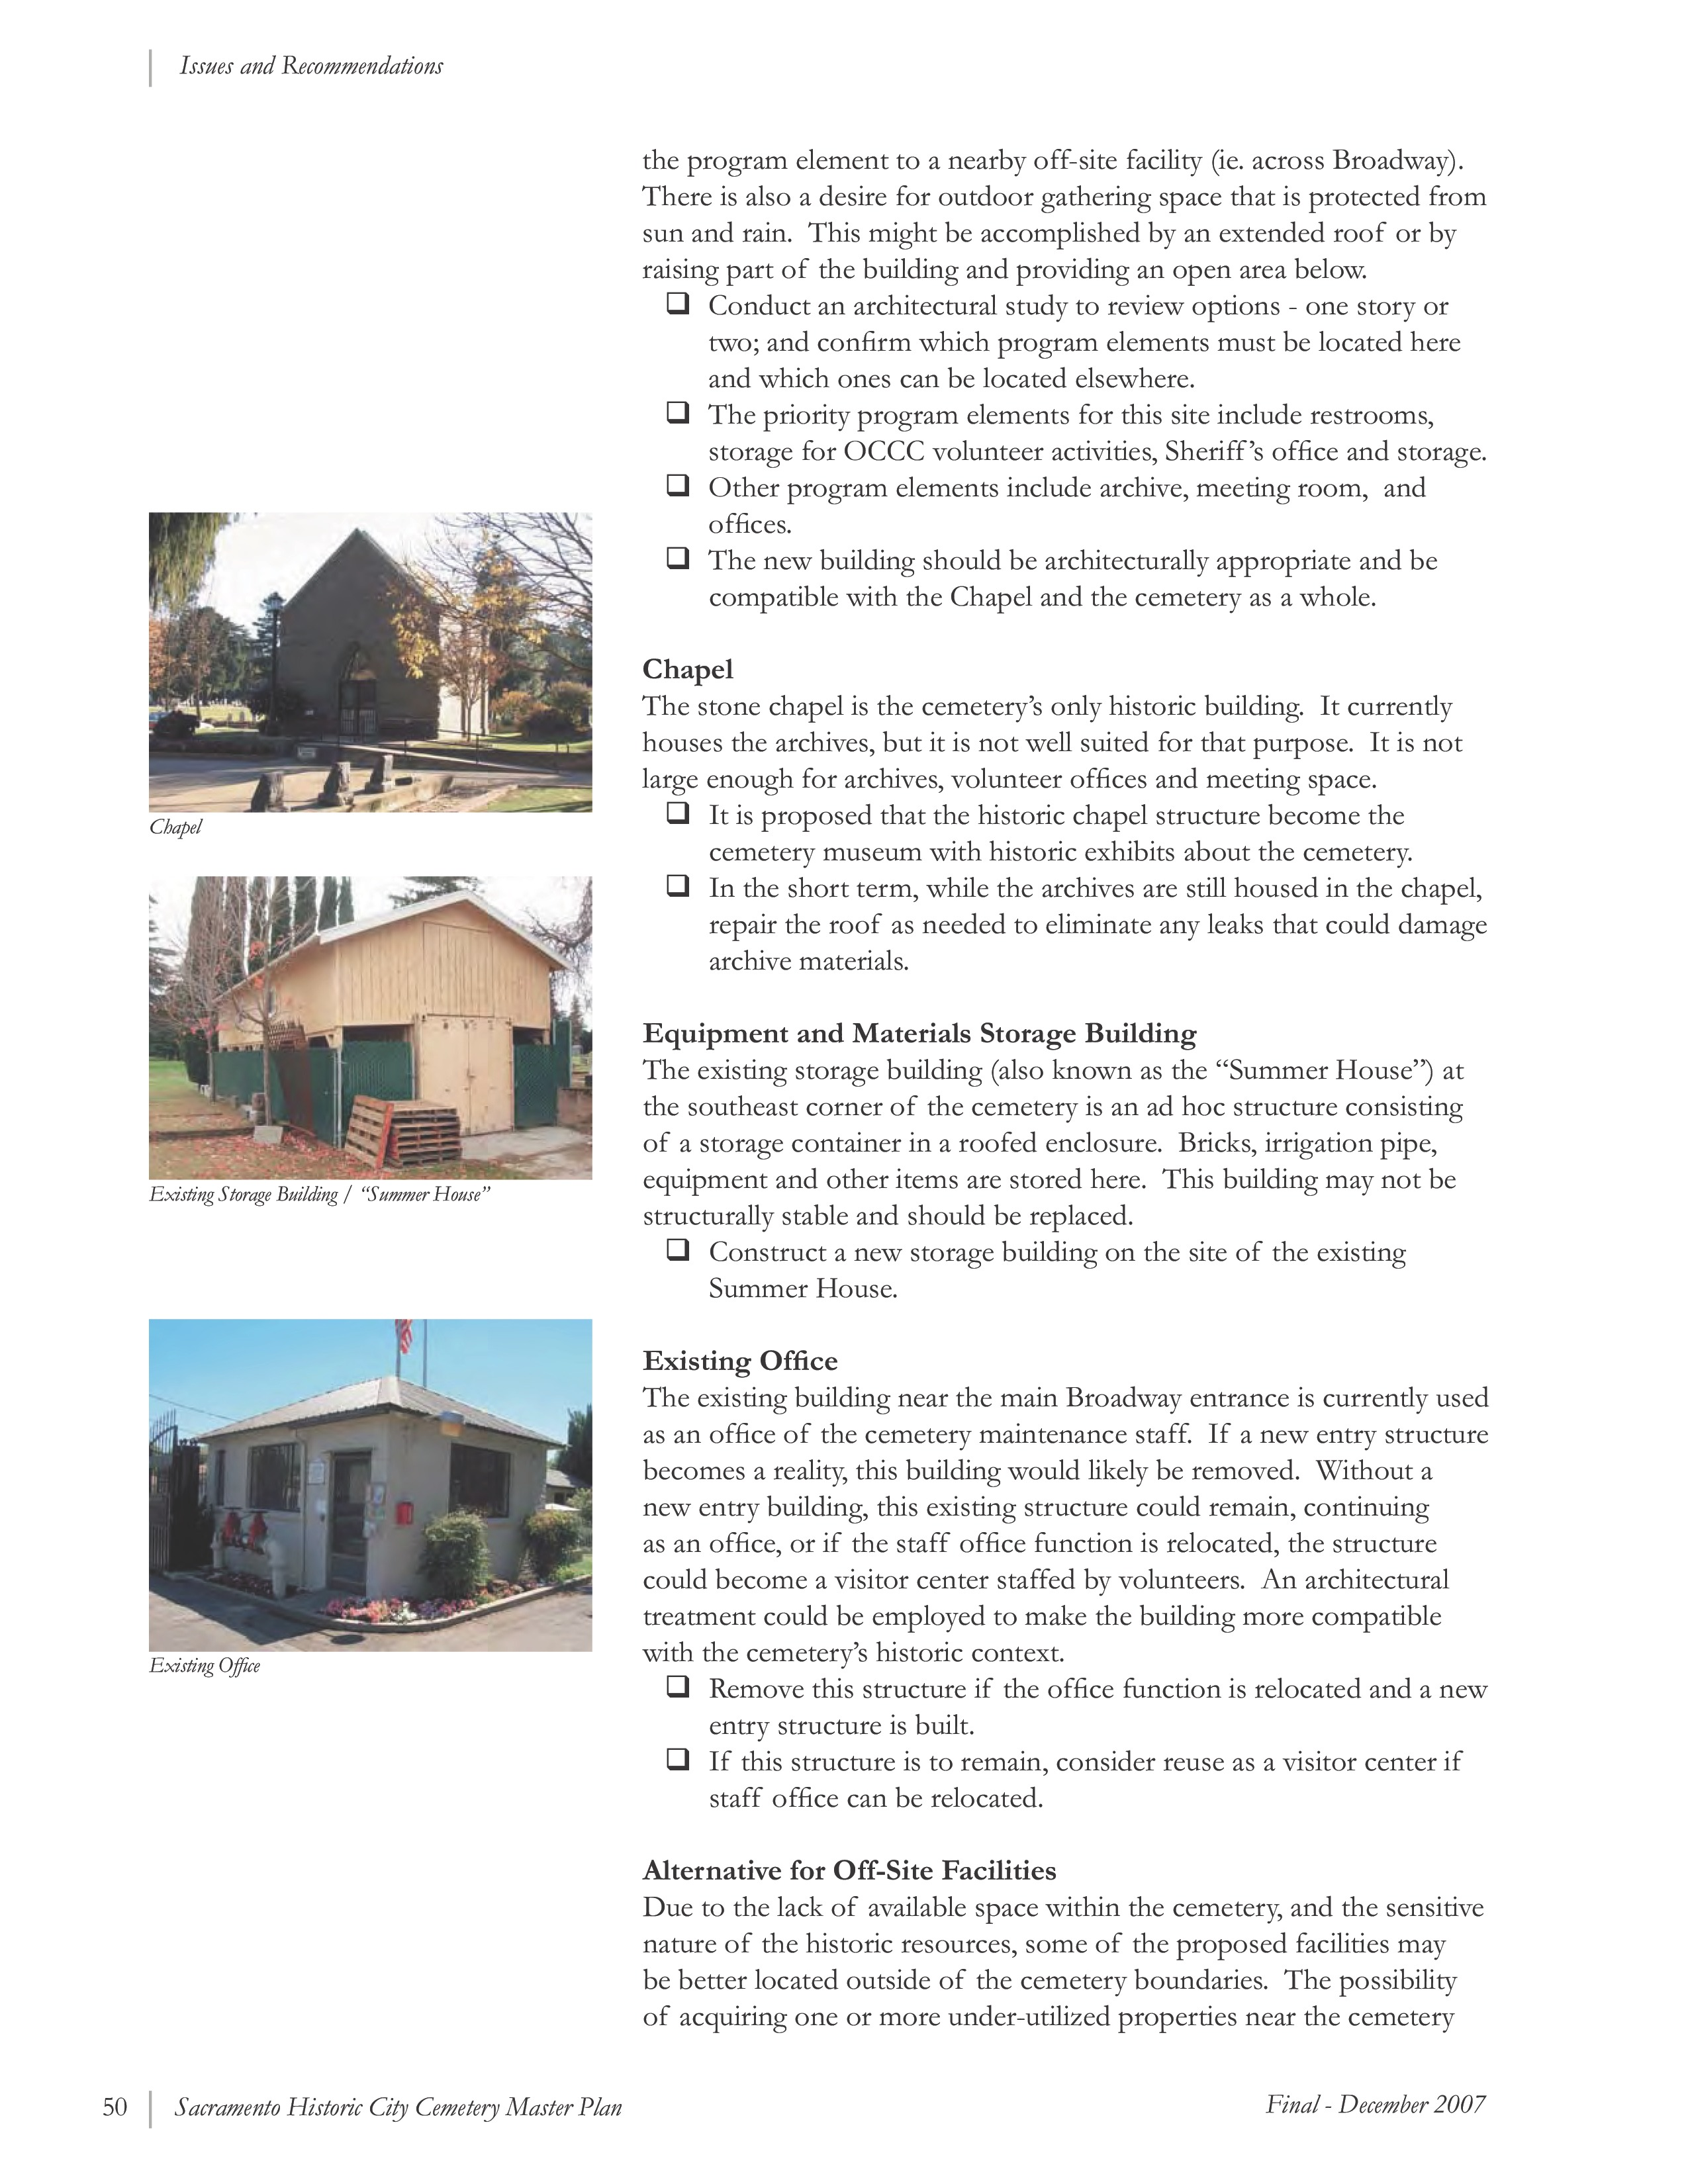caption: (137, 1174, 498, 1225), (138, 1638, 277, 1695), (129, 807, 215, 853)
figure: (152, 1319, 592, 1638), (145, 872, 589, 1175), (149, 512, 582, 803)
list: (638, 291, 1461, 624), (647, 799, 1491, 986), (645, 1675, 1523, 1828), (654, 1232, 1427, 1305)
section: (628, 1018, 1225, 1071), (619, 1844, 1078, 1893), (631, 1338, 842, 1385), (628, 647, 761, 684)
text: (628, 1372, 1527, 1659), (635, 1060, 1472, 1220), (631, 1886, 1500, 2035), (628, 142, 1495, 268), (631, 693, 1447, 789)
